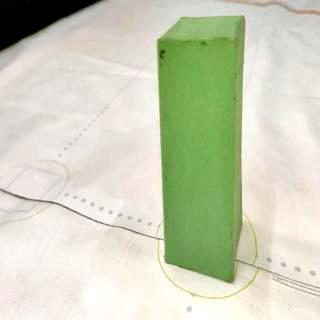greenbox: (157, 16, 246, 284)
